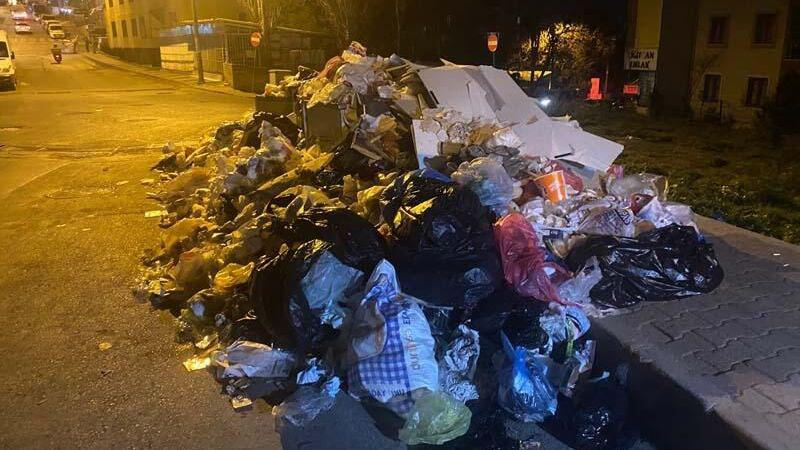Garbage: (261, 89, 521, 382), (254, 254, 613, 450), (148, 179, 705, 297), (160, 134, 389, 366), (271, 76, 527, 277)
